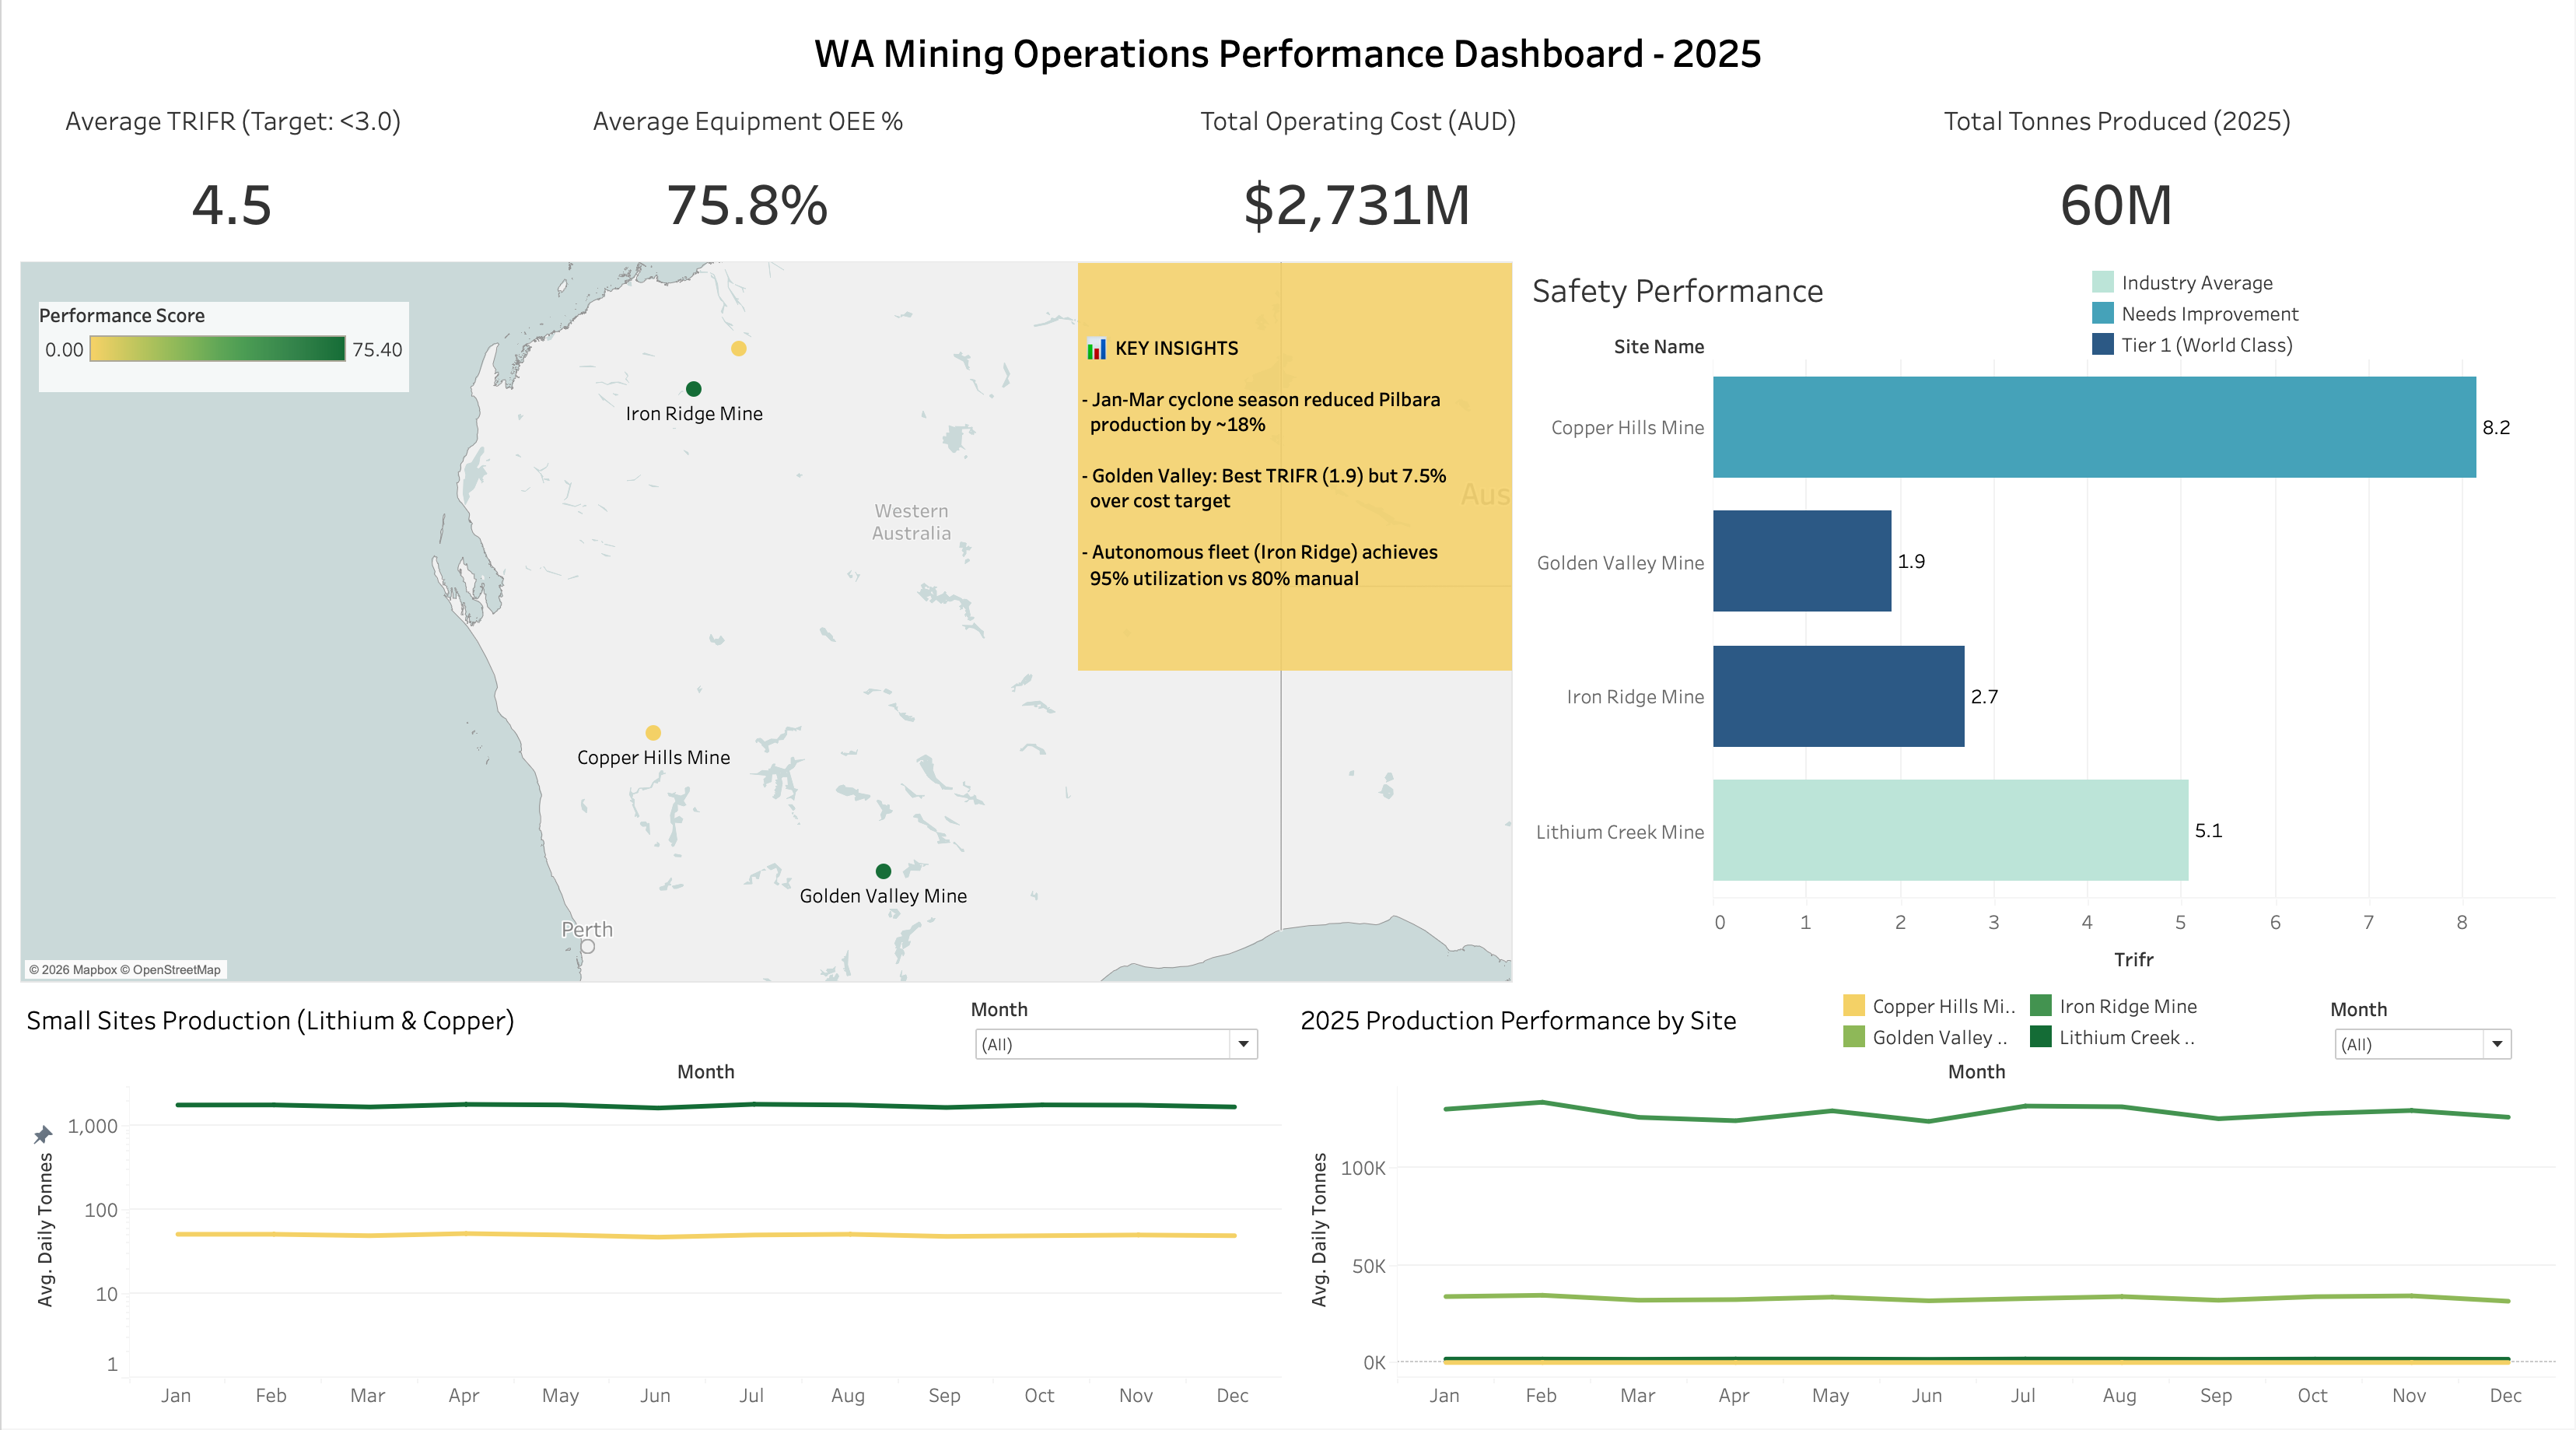

Layout of this report page (visuals, bound fields, positions):
{"tool":"tableau","page":{"name":" Performance Dashboard","canvas":[1000,1000],"units":"permille","ordinal":0},"visuals":[{"type":"title","box":[4.8,10,990.3,62.5]},{"type":"worksheet","title":"KPI - TRIFR","mark":"Automatic","box":[4.8,72.5,170.5,113.7]},{"type":"worksheet","title":"KPI - OEE","mark":"Automatic","box":[175.3,72.5,229.8,113.7]},{"type":"worksheet","title":"KPI - Cost","mark":"Automatic","box":[405.1,72.5,244.9,113.7]},{"type":"worksheet","title":"KPI - Total Production","mark":"Automatic","box":[650,72.5,345.2,113.7]},{"type":"text","box":[418.4,184.1,168.7,285.4]},{"type":"worksheet","title":"Map - Site Performance","mark":"Circle","rows":["Calculation_0200685236506624"],"cols":["Calculation_0200685236604929"],"box":[4.8,186.2,585,506.3]},{"type":"worksheet","title":"Safety Performance","mark":"Automatic","rows":["site_name"],"cols":["trifr"],"box":[589.8,186.2,405.4,506.3]},{"type":"legend","title":"Safety Performance","param":"[federated.1x6ru9z19scgas10ie2a90kevjsv].[none:safety_performance_category:nk]","box":[810.8,186.3,126.4,77.3]},{"type":"legend","title":"Map - Site Performance","param":"[federated.05ocpnp0gr741s14yxyip1ppxwgz].[sum:Calculation_0200685237334018:qk]","box":[14.2,211.2,144.4,63.8]},{"type":"worksheet","title":"Small Sites Production","mark":"Line","rows":["avg_daily_tonnes"],"cols":["Calculation_0200685248102404"],"box":[4.8,692.5,495.1,297.5]},{"type":"worksheet","title":"Production Trends","mark":"Line","rows":["avg_daily_tonnes"],"cols":["Calculation_0200685248102404"],"box":[499.9,692.5,495.3,297.5]},{"type":"legend","title":"Production Trends","param":"[federated.0qt5xwg1wxe0ix1eqpld01r42p1e].[none:site_name:nk]","box":[714.2,692.9,188.5,56.2]},{"type":"filter","title":"Small Sites Production","param":"[federated.0qt5xwg1wxe0ix1eqpld01r42p1e].[none:Calculation_0200685248102404:nk]","box":[376.9,697.5,113.9,65]},{"type":"filter","title":"Production Trends","param":"[federated.0qt5xwg1wxe0ix1eqpld01r42p1e].[none:Calculation_0200685248102404:nk]","box":[905.1,697.5,72.5,65]}]}

Visuals, with their boxes on the dashboard's canvas, which has no fixed pixel size, in thousandths of its width and height (x1, y1, x2, y2). These are canvas units, not pixel positions in the 2576x1430 screenshot, which may show the page scaled, cropped or inside an application window:
title: crop(5, 10, 995, 72)
"KPI - TRIFR" worksheet: crop(5, 72, 175, 186)
"KPI - OEE" worksheet: crop(175, 72, 405, 186)
"KPI - Cost" worksheet: crop(405, 72, 650, 186)
"KPI - Total Production" worksheet: crop(650, 72, 995, 186)
text: crop(418, 184, 587, 470)
"Map - Site Performance" worksheet (Circle marks): crop(5, 186, 590, 692)
"Safety Performance" worksheet: crop(590, 186, 995, 692)
"Safety Performance" legend: crop(811, 186, 937, 264)
"Map - Site Performance" legend: crop(14, 211, 159, 275)
"Small Sites Production" worksheet (Line marks): crop(5, 692, 500, 990)
"Production Trends" worksheet (Line marks): crop(500, 692, 995, 990)
"Production Trends" legend: crop(714, 693, 903, 749)
"Small Sites Production" filter: crop(377, 698, 491, 762)
"Production Trends" filter: crop(905, 698, 978, 762)
